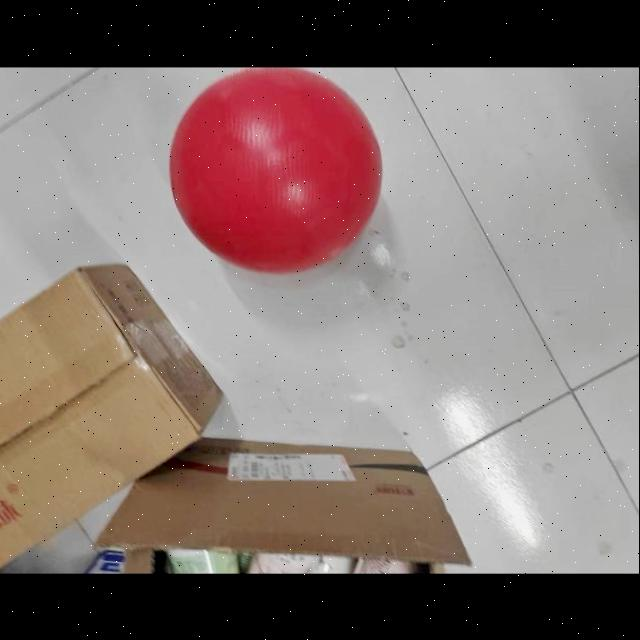R: (166, 68, 390, 278)
